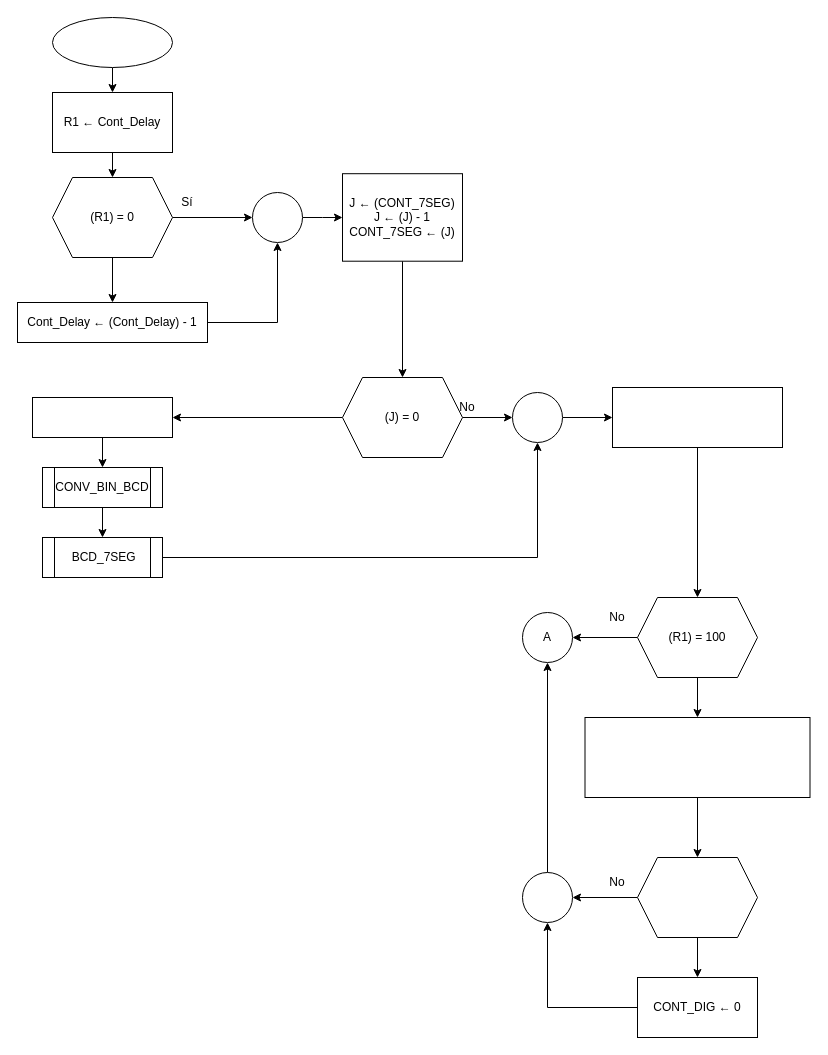
This 828x1055 diagram has some shape labels left out. Each missing label, with the centre of its shape:
"(R2) = 5" belongs at (x=697, y=897).
"CONT_7SEG ← 5000" belongs at (x=102, y=417).
"OC4_ISR" belongs at (x=112, y=42).
"R1 ← (CONT_TICKS)" belongs at (x=697, y=417).
"R1 ← 0 CONT_TICKS ← (R1) CONT_DIG ← (CONT_DIG) + 1 R2 ← (CONT_DIG)" belongs at (x=697, y=757).
